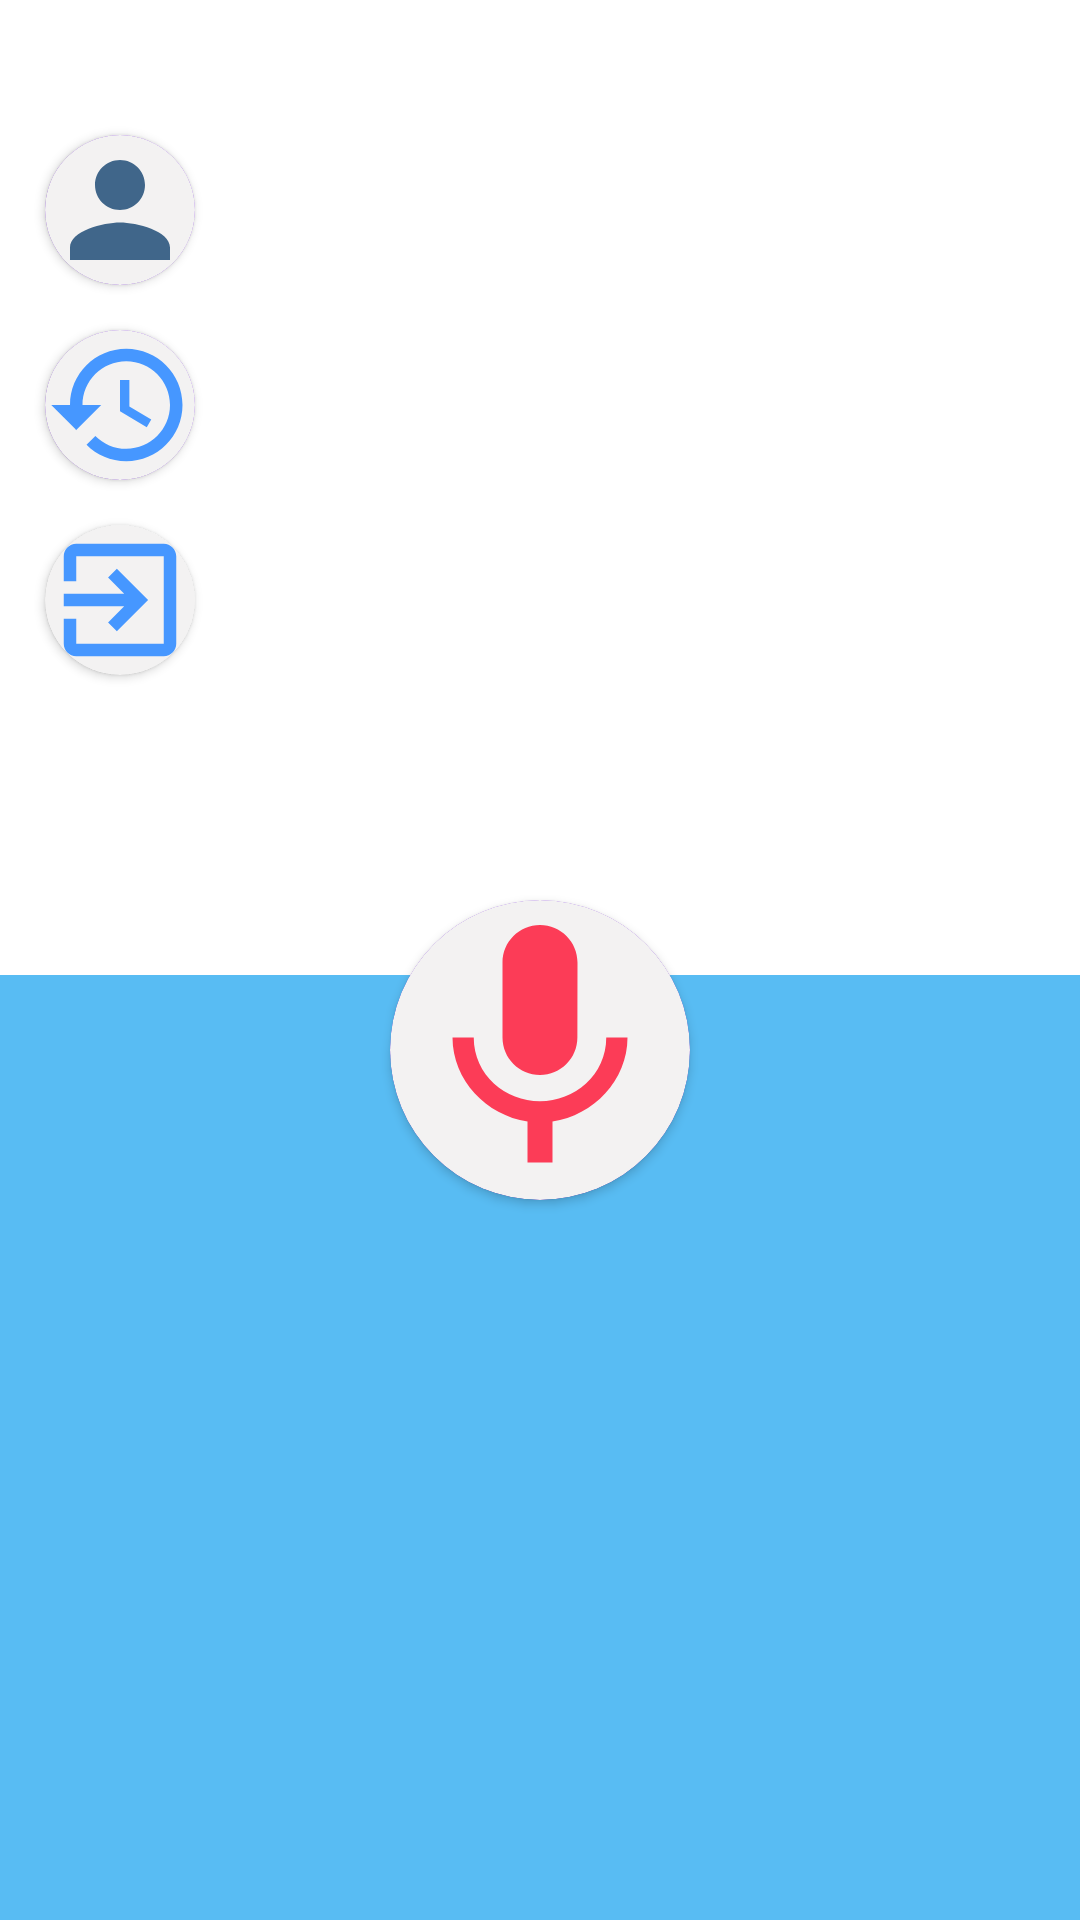

Named icons in this screenshot (1080*1920) and their bounding boxes, [x1, y1, x2, y2]:
exit to app: [45, 525, 195, 675]
history: [45, 330, 195, 480]
mic: [390, 900, 690, 1200]
person: [45, 135, 195, 285]
